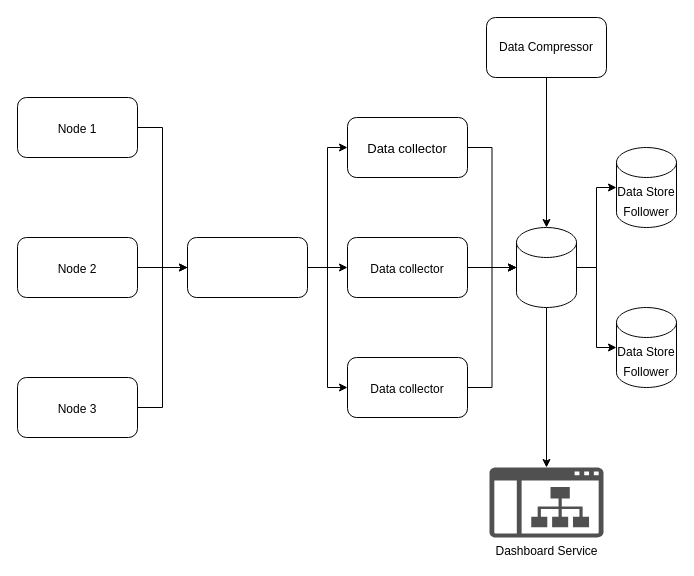
Image size: 694x576. Some labels were removed from this diagram. Each missing label, with the box of its shape:
Data Store Leader: (516, 226, 576, 308)
HA Queue: (186, 236, 308, 298)
